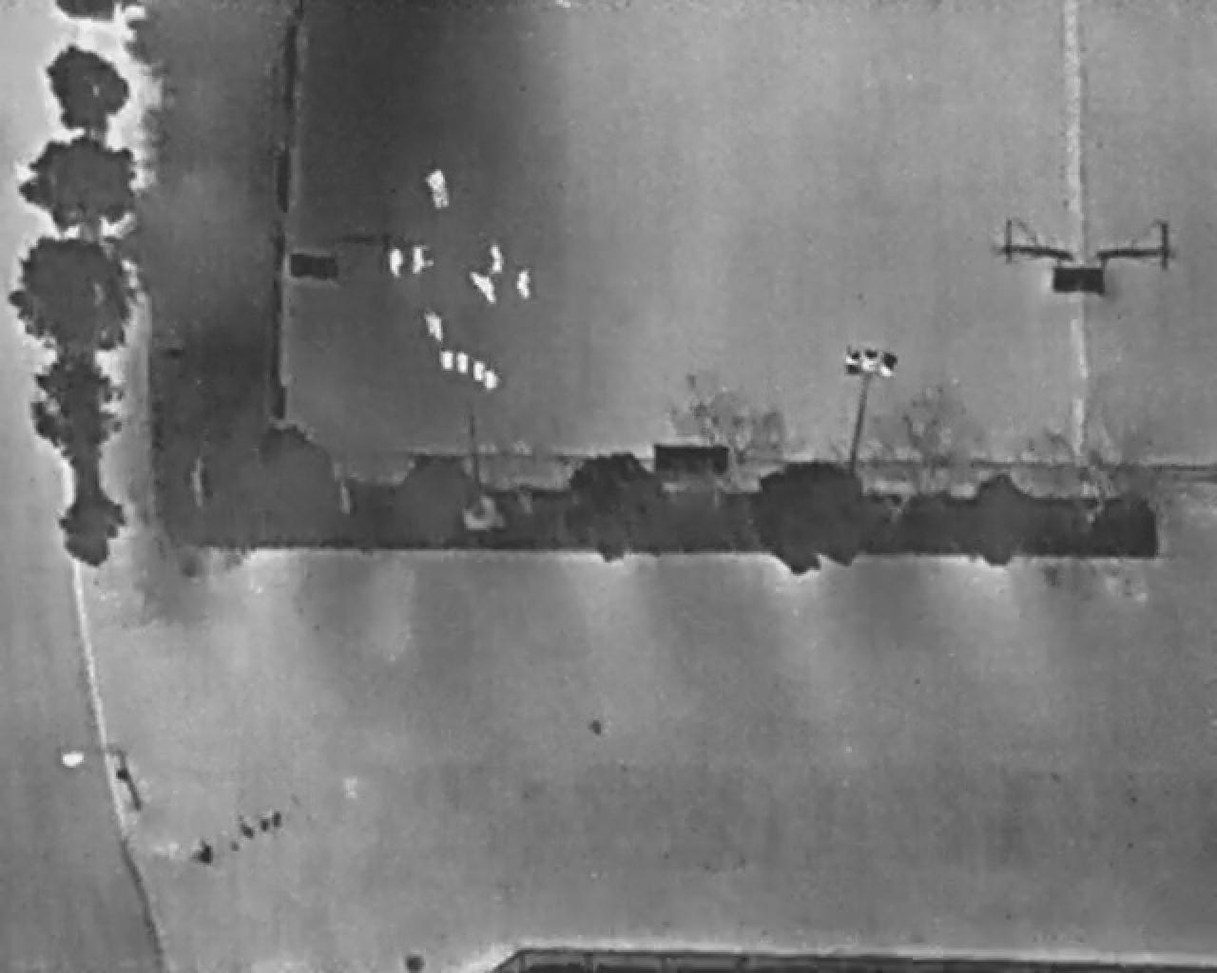person: (427, 170, 450, 210), (471, 273, 497, 303), (425, 309, 444, 343), (412, 246, 427, 275), (389, 248, 404, 277), (490, 246, 505, 275), (518, 269, 531, 299)
